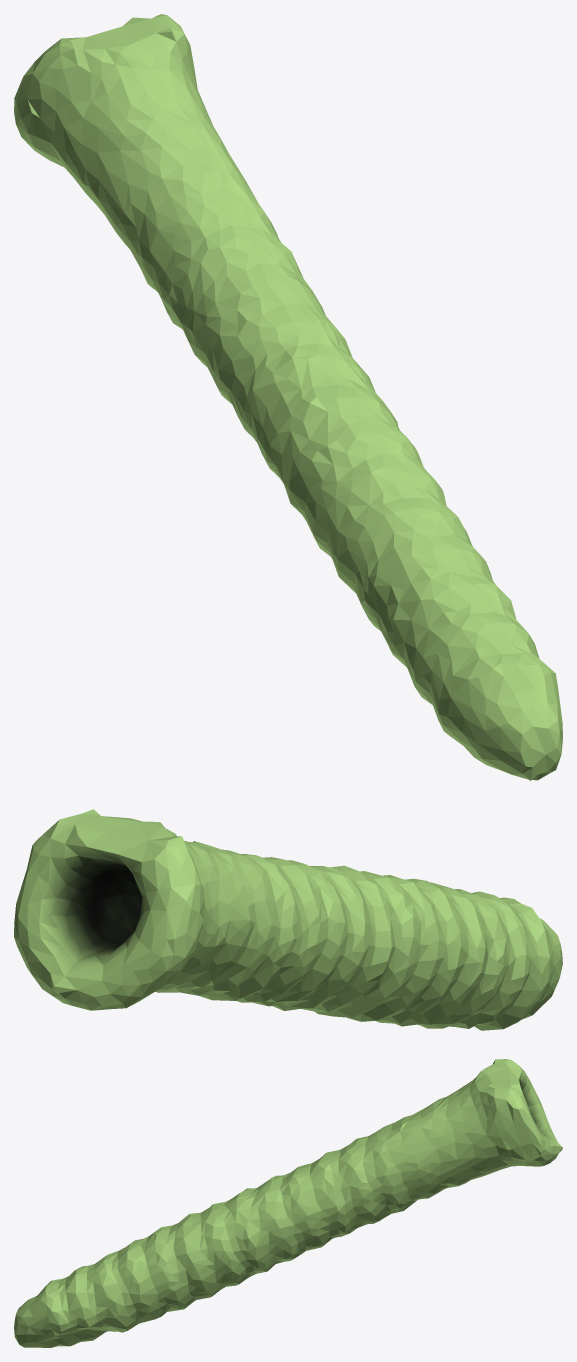
File: Geometry1_lao-local.dae
3 views of the same model, one above another, from view 1: azimuth 30°, elevation 25°; view 2: azimuth 150°, elevation 25°; view 3: azimuth 270°, elevation 25° (orthographic). The views are drawn at different scales.
Visible parts, largest first — view 1: node; view 2: node; view 3: node.
Boxes of the visible parts, x1=… form: node: x1=14, y1=14, x2=562, y2=780; node: x1=14, y1=809, x2=562, y2=1030; node: x1=14, y1=1059, x2=562, y2=1347.
Size of the model in its own units: 7.98 by 22.13 by 40.78.
